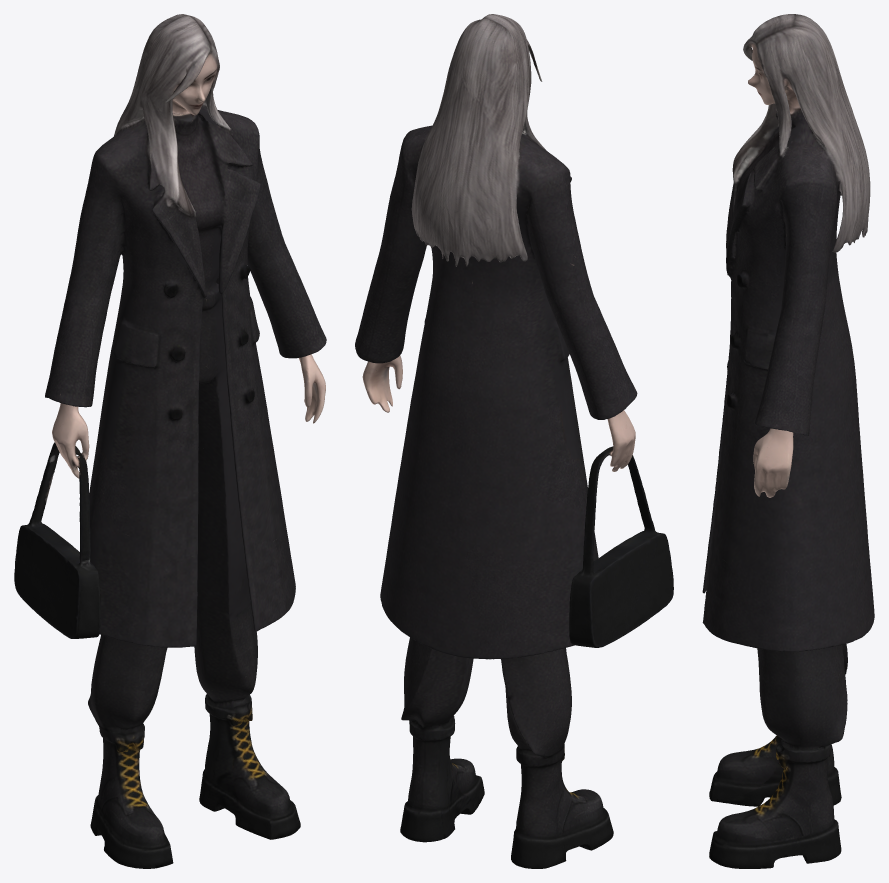
The model's file is dasha_meshy.glb.
The picture shows the model from 3 angles, left to right: view 1: azimuth 30°, elevation 25°; view 2: azimuth 150°, elevation 25°; view 3: azimuth 270°, elevation 25°; orthographic projection.
Size of the model in its own units: 0.6851 by 1.9 by 0.3655.
Materials: 1 (1 with a texture image).
